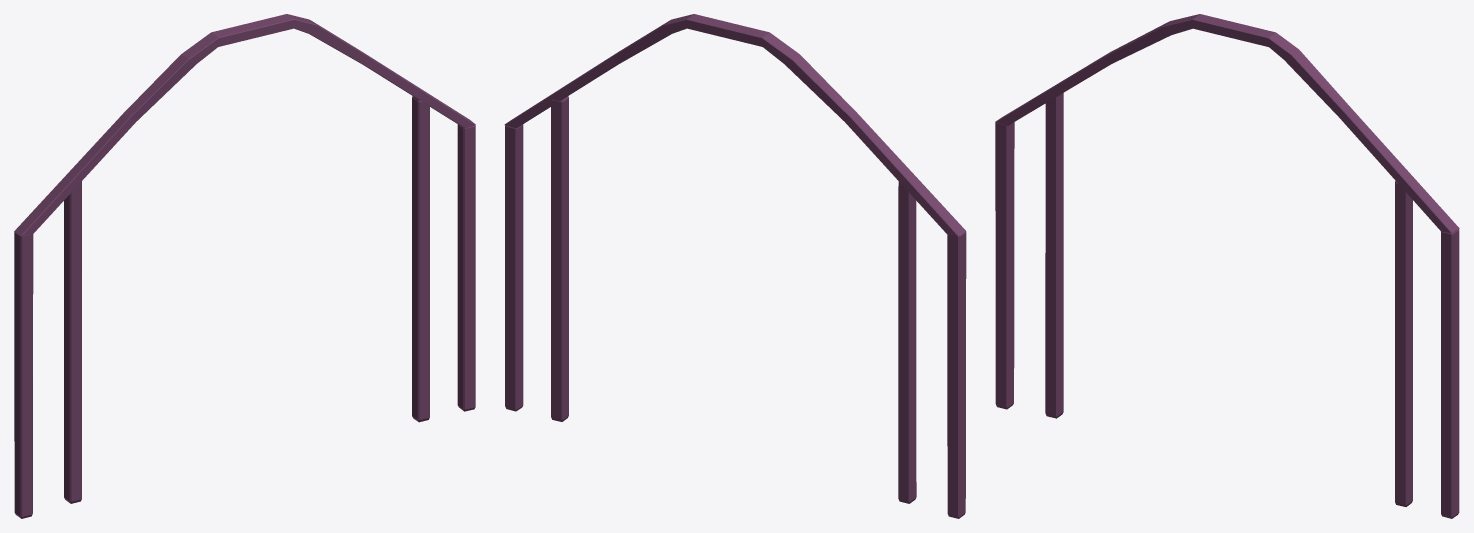
The model's file is Gate.3.fbx.
3 renders of one model, left to right at view 1: azimuth 30°, elevation 25°; view 2: azimuth 150°, elevation 25°; view 3: azimuth 330°, elevation 25°, orthographic.
Parts seen in each view (by area): view 1: pasted__pasted__Fences (×2), pCube6, pasted__pasted__pasted__Fences, pasted__Fences; view 2: pasted__pasted__Fences (×2), pCube6, pasted__pasted__pasted__Fences, pasted__Fences; view 3: pasted__pasted__Fences (×2), pCube6, pasted__pasted__pasted__Fences, pasted__Fences.
Part boxes in pixels (left/top/right/bottom): pasted__pasted__Fences (×2): left=64, top=124, right=475, bottom=503; pCube6: left=14, top=14, right=475, bottom=236; pasted__pasted__pasted__Fences: left=412, top=96, right=429, bottom=422; pasted__Fences: left=14, top=232, right=33, bottom=518; pasted__pasted__Fences (×2): left=505, top=124, right=916, bottom=503; pCube6: left=504, top=14, right=966, bottom=236; pasted__pasted__pasted__Fences: left=551, top=96, right=568, bottom=421; pasted__Fences: left=947, top=232, right=966, bottom=518; pasted__pasted__Fences (×2): left=1045, top=93, right=1459, bottom=518; pCube6: left=995, top=14, right=1459, bottom=233; pasted__pasted__pasted__Fences: left=1395, top=181, right=1412, bottom=506; pasted__Fences: left=995, top=122, right=1014, bottom=409.
Bounding box in the file's own units: 2.08 × 1.9 × 0.0645.
